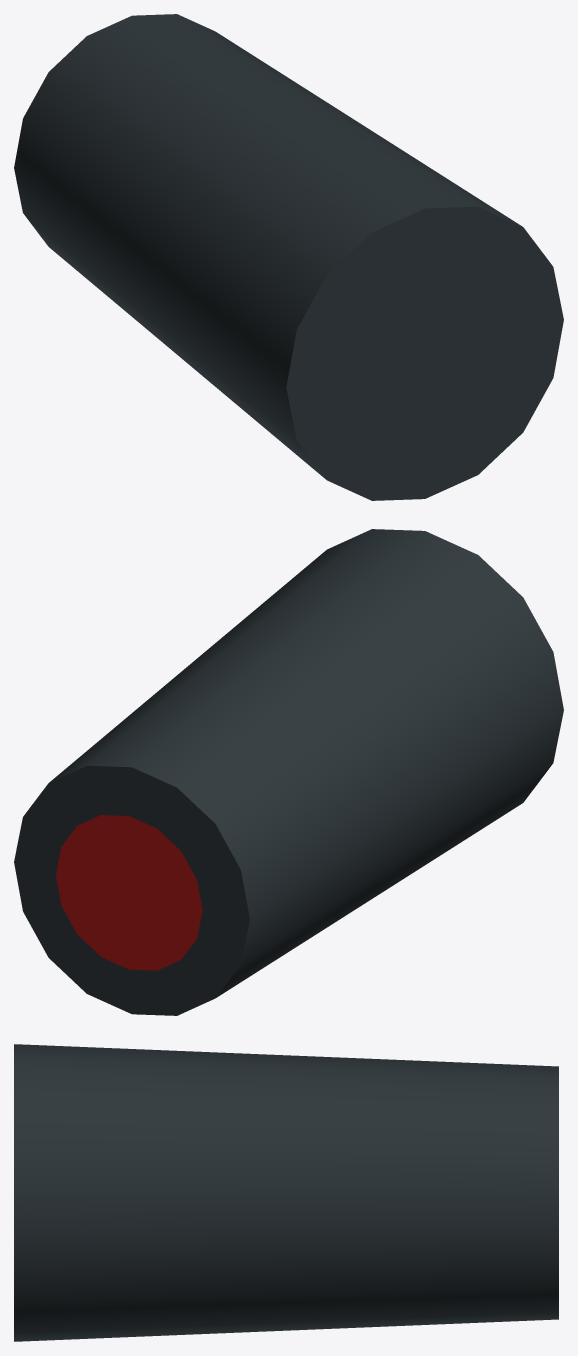
File: cl-heavy-small-laser-round.glb
The picture shows the model from 3 angles, top to bottom: view 1: azimuth 30°, elevation 25°; view 2: azimuth 150°, elevation 25°; view 3: azimuth 270°, elevation 25°; orthographic projection. The views are drawn at different scales.
Parts seen in each view (by area): view 1: mount; view 2: mount; view 3: mount.
Boxes of the visible parts, x1,y1,x2,y2 form: mount: (14, 14, 563, 500); mount: (14, 529, 563, 1015); mount: (14, 1044, 558, 1341).
Bounding box in the file's own units: 1.75 × 1.75 × 3.23.
